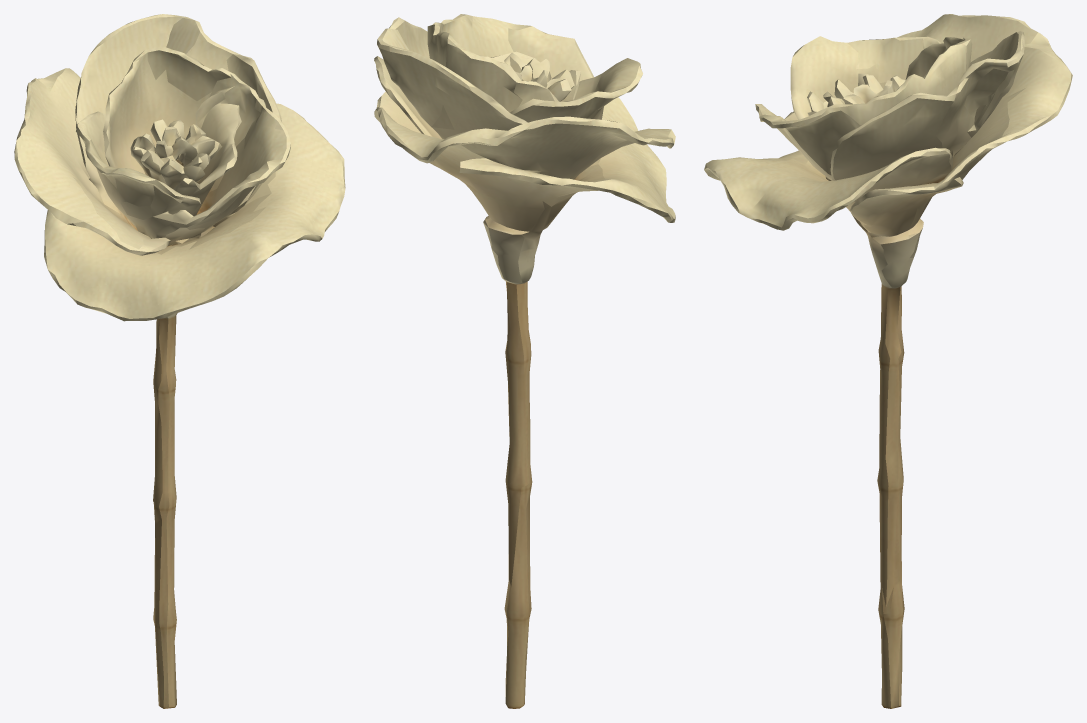
The model's file is paper-flower.glb.
3 views of the same model, side by side, from view 1: azimuth 30°, elevation 25°; view 2: azimuth 150°, elevation 25°; view 3: azimuth 270°, elevation 25° (orthographic). The views are drawn at different scales.
Parts seen in each view (by area): view 1: world; view 2: world; view 3: world.
Boxes of the visible parts, bbox=[...] form: world: bbox=[14, 14, 345, 708]; world: bbox=[374, 14, 675, 708]; world: bbox=[704, 14, 1072, 708].
Size of the model in its own units: 0.4737 by 1 by 0.4901.
1 material, 1 textured.
